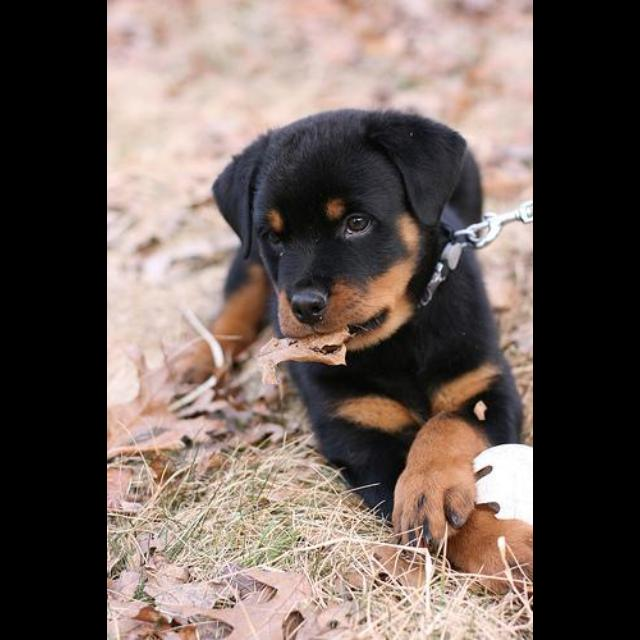rottweiler: (180, 107, 529, 584)
